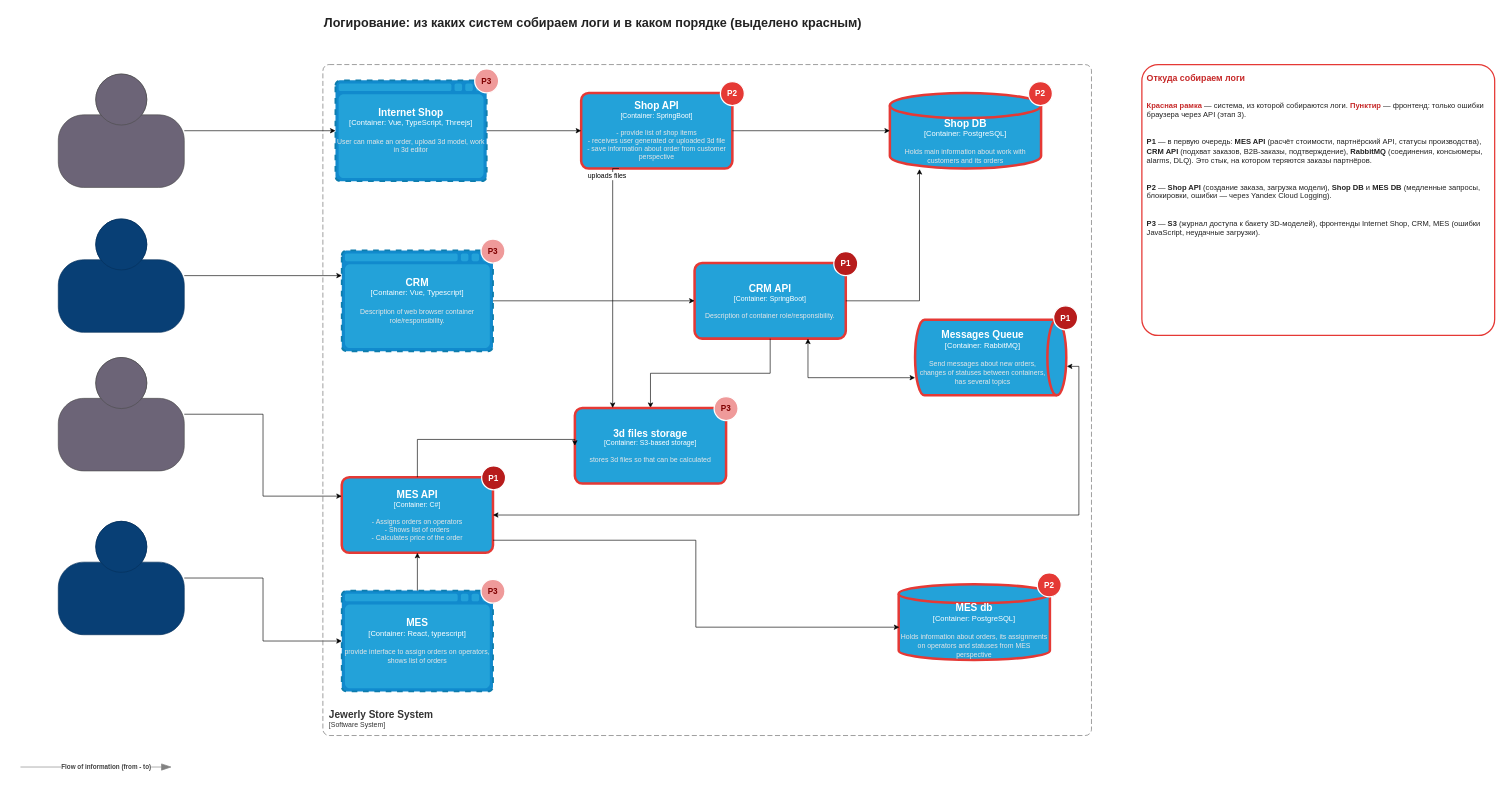
This 1506x788 diagram has some shape labels left out. Here are the shapes that lost their labels. From the top down, the centre of each, then its label:
pixel 121 130: Customer [Person] Description of external person.
pixel 121 275: Seller [Person] Operates with order, confirms manufacturing for the user
pixel 121 414: API user [Person] Description of external person.
pixel 121 578: Operator [Person] Takes order in work, manufactures jewerly
